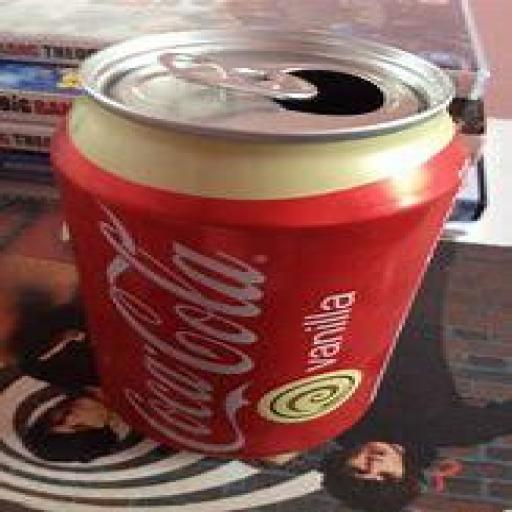can: (47, 28, 473, 461)
pop tab: (157, 49, 320, 99)
